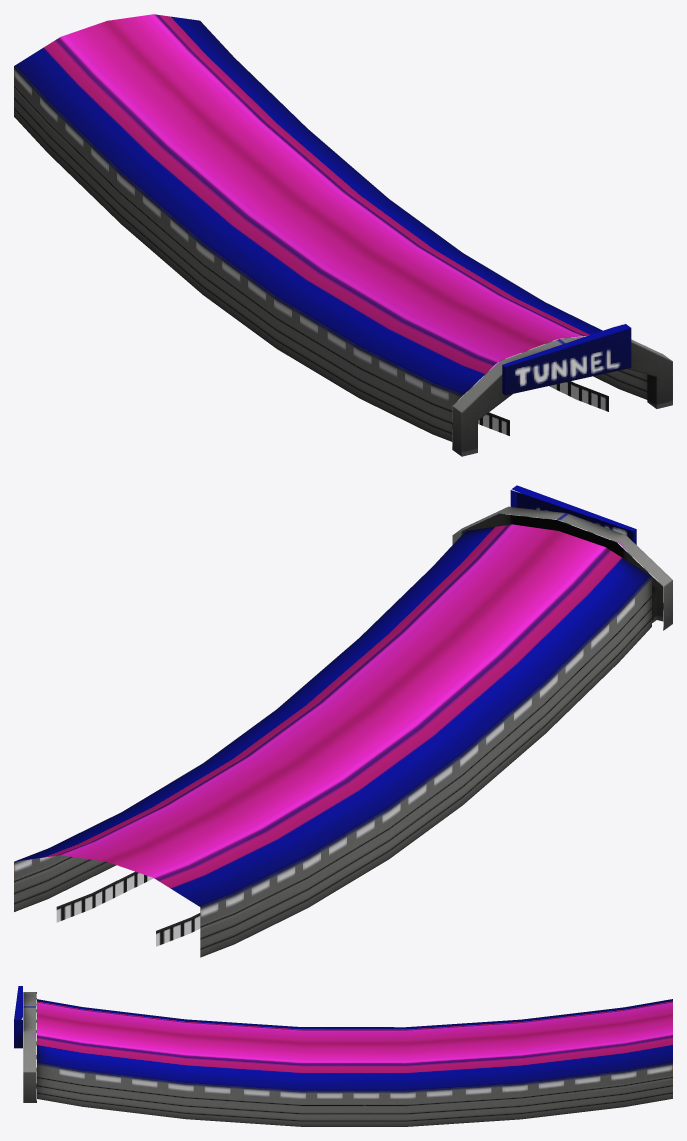
The model's file is pk_model_suidao.FBX.
The picture shows the model from 3 angles, top to bottom: view 1: azimuth 30°, elevation 25°; view 2: azimuth 150°, elevation 25°; view 3: azimuth 270°, elevation 25°; orthographic projection. The views are drawn at different scales.
Parts seen in each view (by area): view 1: Object091; view 2: Object091; view 3: Object091.
Boxes of the visible parts, x1,y1,x2,y2 form: Object091: (14, 14, 672, 456); Object091: (14, 485, 672, 957); Object091: (14, 986, 672, 1126).
Bounding box in the file's own units: 1975 × 1197 × 7566.
Materials: 1 (1 with a texture image).
